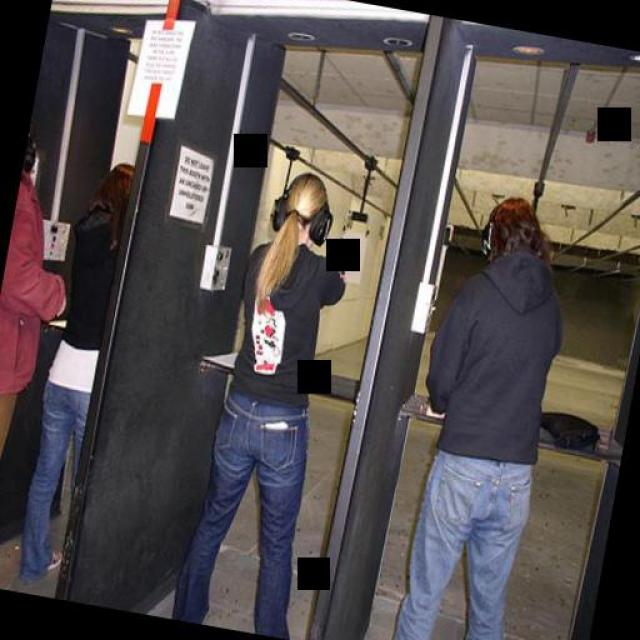gun: (329, 232, 350, 256)
